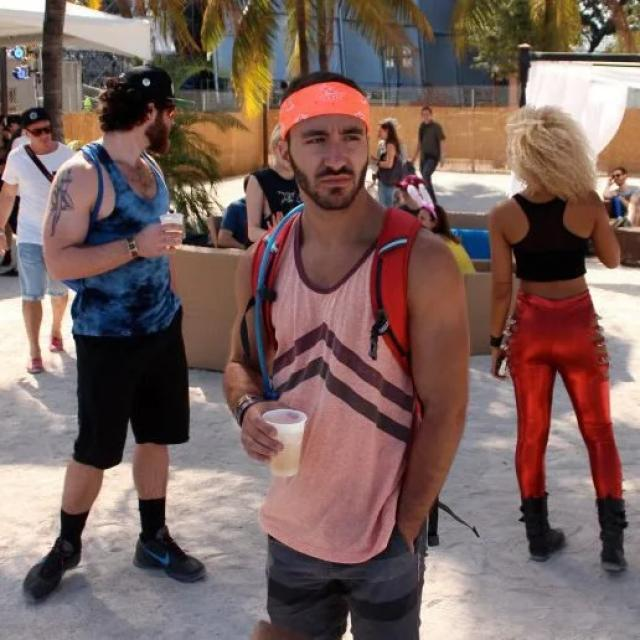nohelmet: (269, 73, 376, 209), (102, 63, 174, 158), (18, 104, 60, 150), (611, 166, 628, 187), (418, 104, 437, 122)
